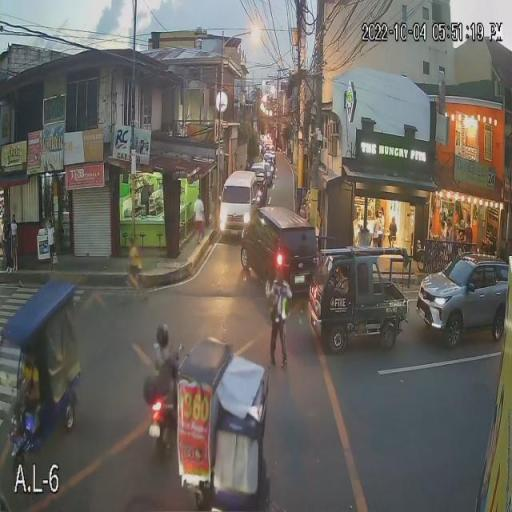helmet: (156, 316, 175, 352)
motorcycle: (141, 344, 185, 467)
rider: (148, 339, 181, 401)
